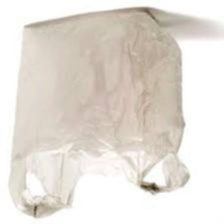plastic_bag: (6, 2, 193, 222)
